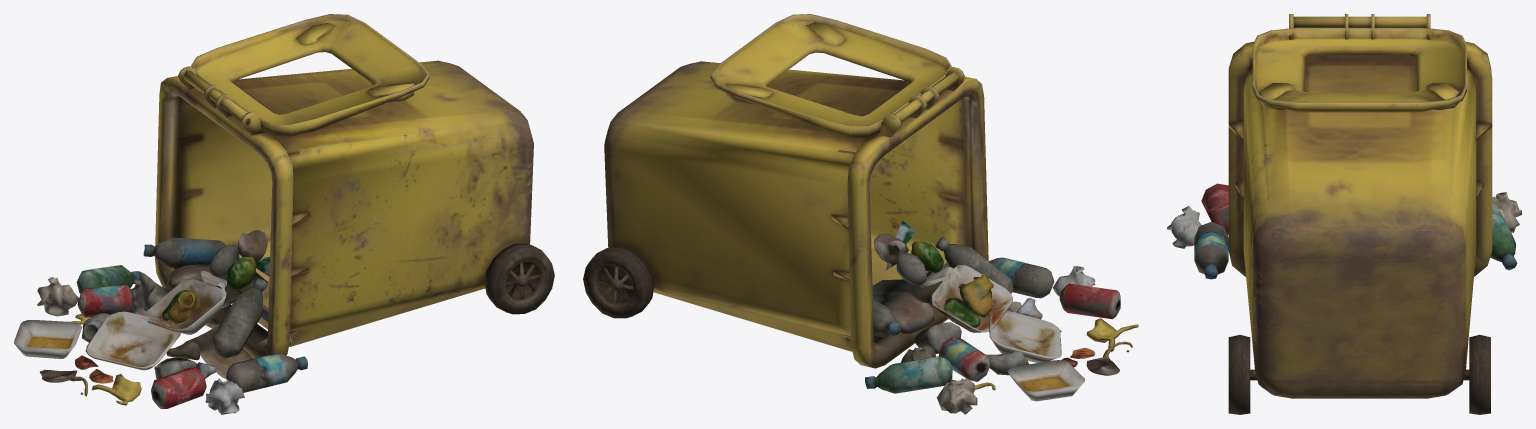
Rendered from javaporcos_mint_lixeira_tombada.glb.
3 views of the same model, side by side, from view 1: azimuth 30°, elevation 25°; view 2: azimuth 150°, elevation 25°; view 3: azimuth 270°, elevation 25° (orthographic). The views are drawn at different scales.
Visible parts, largest first — view 1: Lixeira tombada; view 2: Lixeira tombada; view 3: Lixeira tombada.
Boxes of the visible parts, x1,y1,x2,y2 form: Lixeira tombada: [14, 14, 554, 414]; Lixeira tombada: [583, 14, 1138, 414]; Lixeira tombada: [1167, 14, 1521, 414].
Bounding box in the file's own units: 1.3 × 0.6742 × 0.7912.
1 material, 1 textured.
